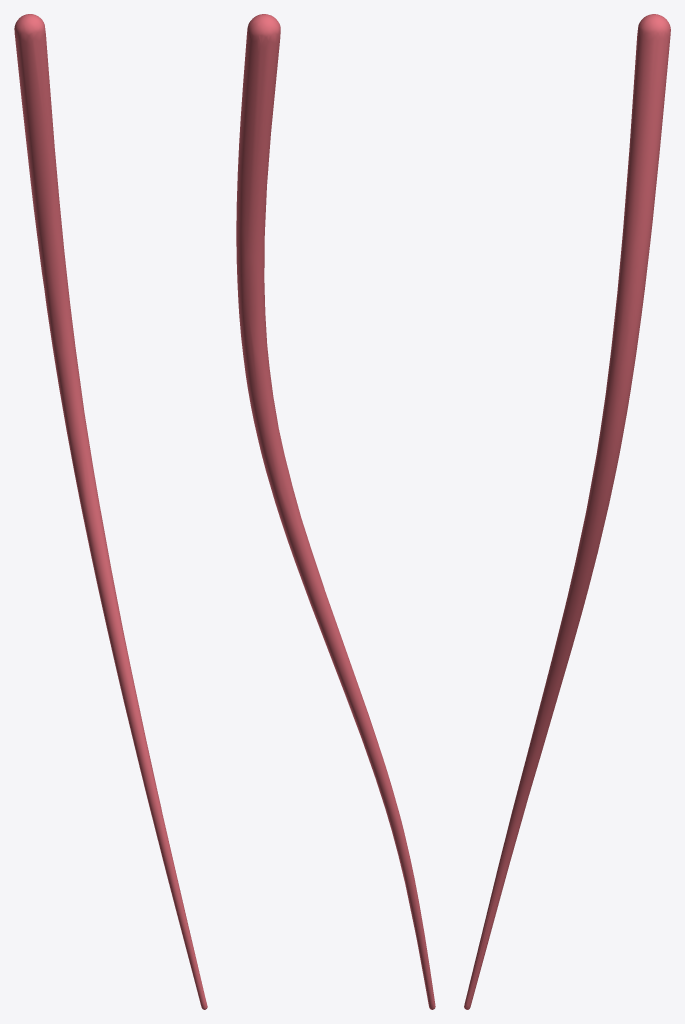
Rendered from fma71214_fj2306.glb.
3 views of the same model, side by side, from view 1: azimuth 90°, elevation 25°; view 2: azimuth 150°, elevation 25°; view 3: azimuth 270°, elevation 25° (orthographic). The views are drawn at different scales.
Visible parts, largest first — view 1: FMA71214_FJ2306; view 2: FMA71214_FJ2306; view 3: FMA71214_FJ2306.
Boxes of the visible parts, left/top/right/bottom form: FMA71214_FJ2306: left=14, top=14, right=207, bottom=1009; FMA71214_FJ2306: left=236, top=14, right=435, bottom=1009; FMA71214_FJ2306: left=464, top=14, right=670, bottom=1009.
Bounding box in the file's own units: 0.0116 × 0.1015 × 0.0185.
